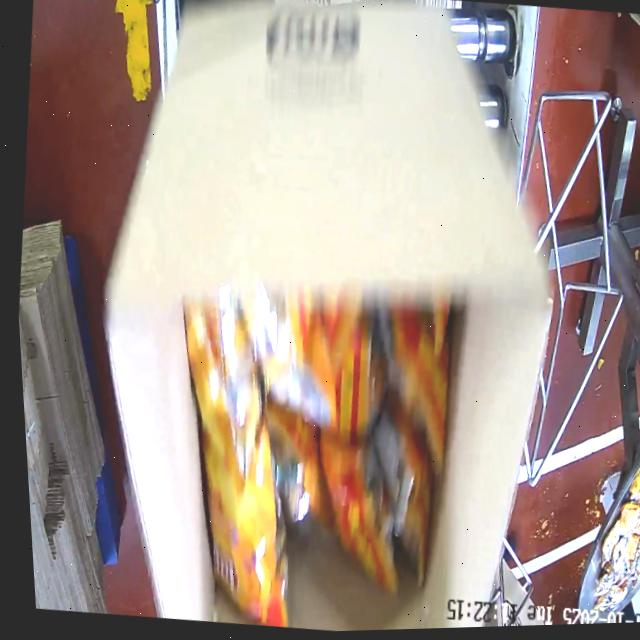FRENCH_CHEESE: (169, 284, 482, 636)
